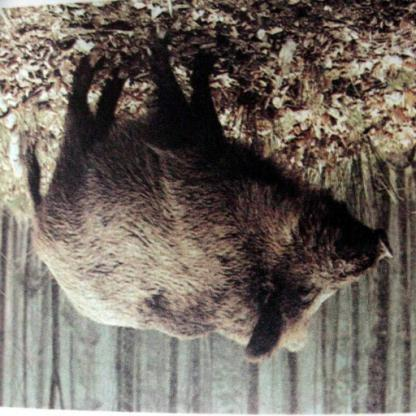boar: (7, 16, 382, 394)
